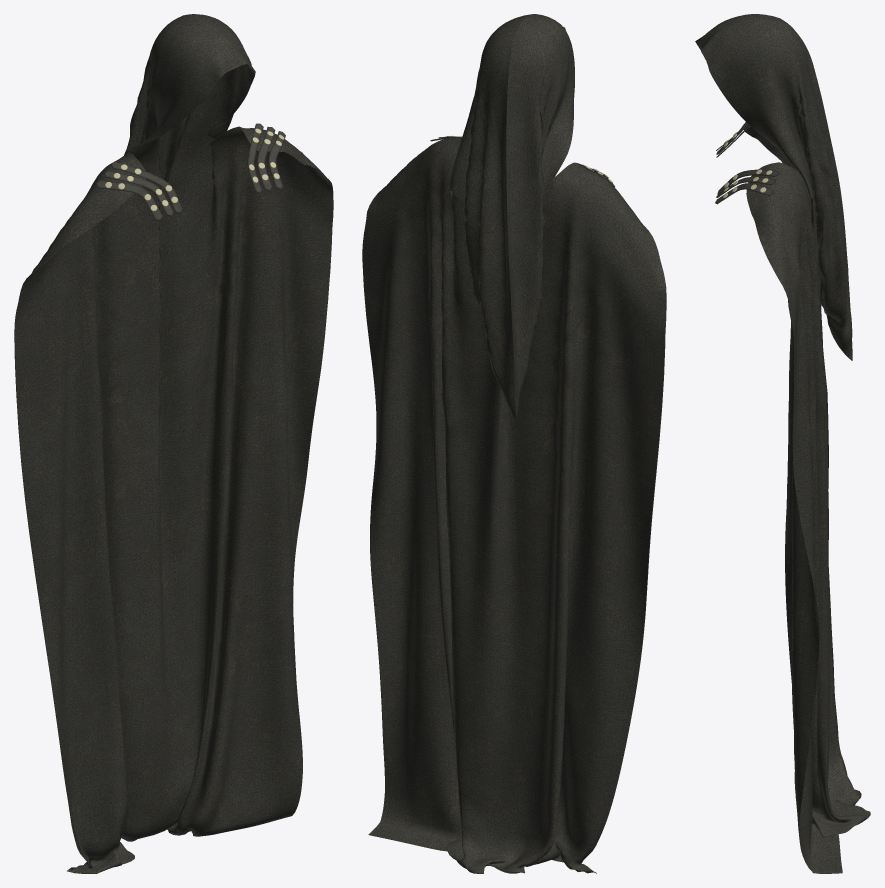
File: Medieval Hooded Cloak.fbx
The picture shows the model from 3 angles, left to right: view 1: azimuth 30°, elevation 25°; view 2: azimuth 150°, elevation 25°; view 3: azimuth 270°, elevation 25°; orthographic projection. The views are drawn at different scales.
Parts seen in each view (by area): view 1: Medieval_Leather_Pants; view 2: Medieval_Leather_Pants; view 3: Medieval_Leather_Pants.
Part boxes in pixels (box(x1,y1,x2,y2)): Medieval_Leather_Pants: box(14, 14, 333, 873); Medieval_Leather_Pants: box(362, 14, 666, 873); Medieval_Leather_Pants: box(695, 14, 870, 873).
Bounding box in the file's own units: 70.41 × 180 × 35.79.
1 material, 1 textured.
